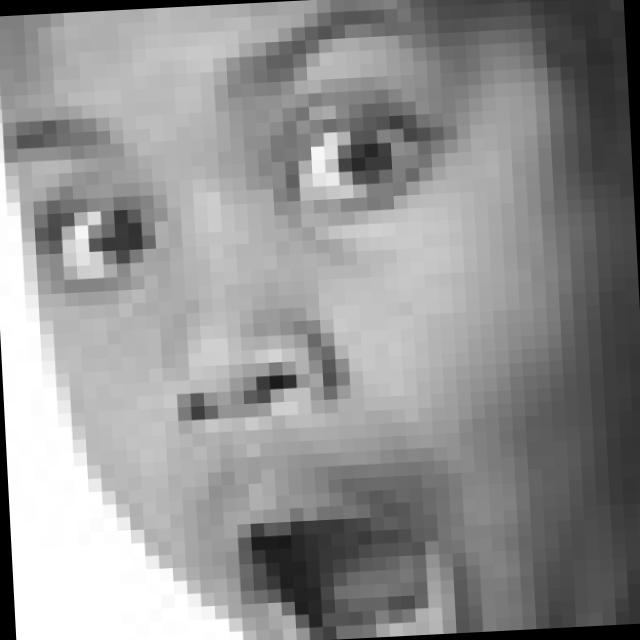surprise: (17, 7, 477, 640)
